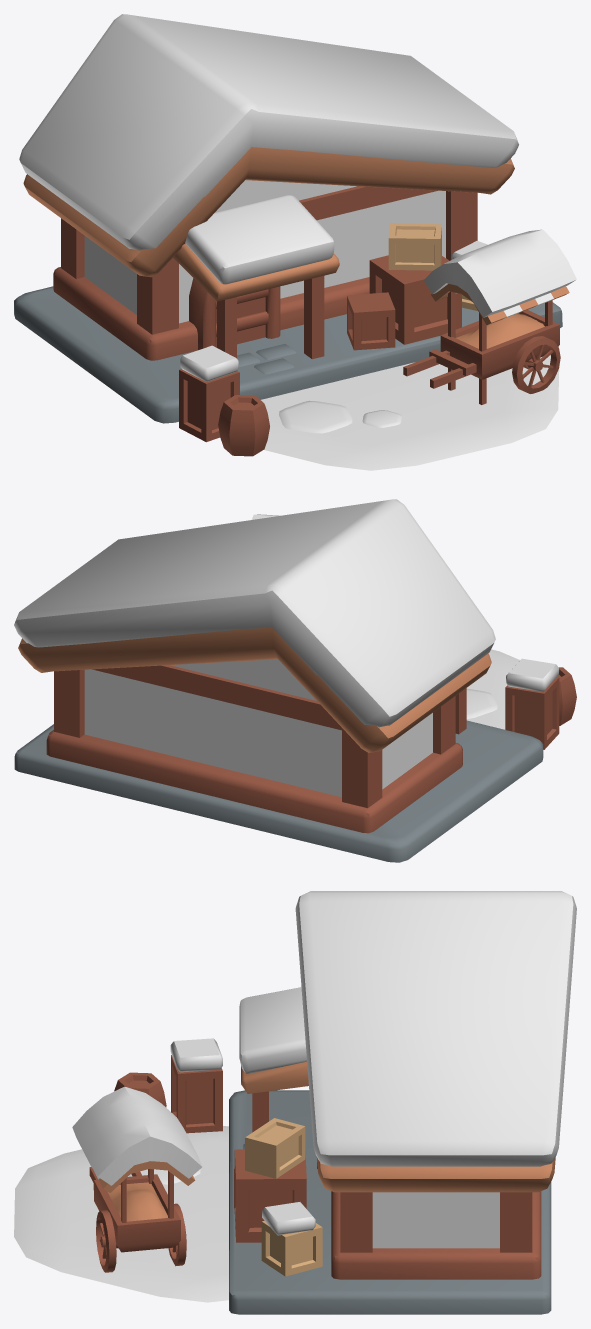
Rendered from market_snow.gltf.glb.
3 views of the same model, one above another, from view 1: azimuth 30°, elevation 25°; view 2: azimuth 150°, elevation 25°; view 3: azimuth 270°, elevation 25° (orthographic). The views are drawn at different scales.
Parts seen in each view (by area): view 1: market_snow; view 2: market_snow; view 3: market_snow.
Boxes of the visible parts, left/top/right/bottom form: market_snow: left=14, top=14, right=576, bottom=470; market_snow: left=14, top=499, right=576, bottom=862; market_snow: left=14, top=891, right=576, bottom=1314.
Size of the model in its own units: 1.47 by 0.9615 by 1.69.
